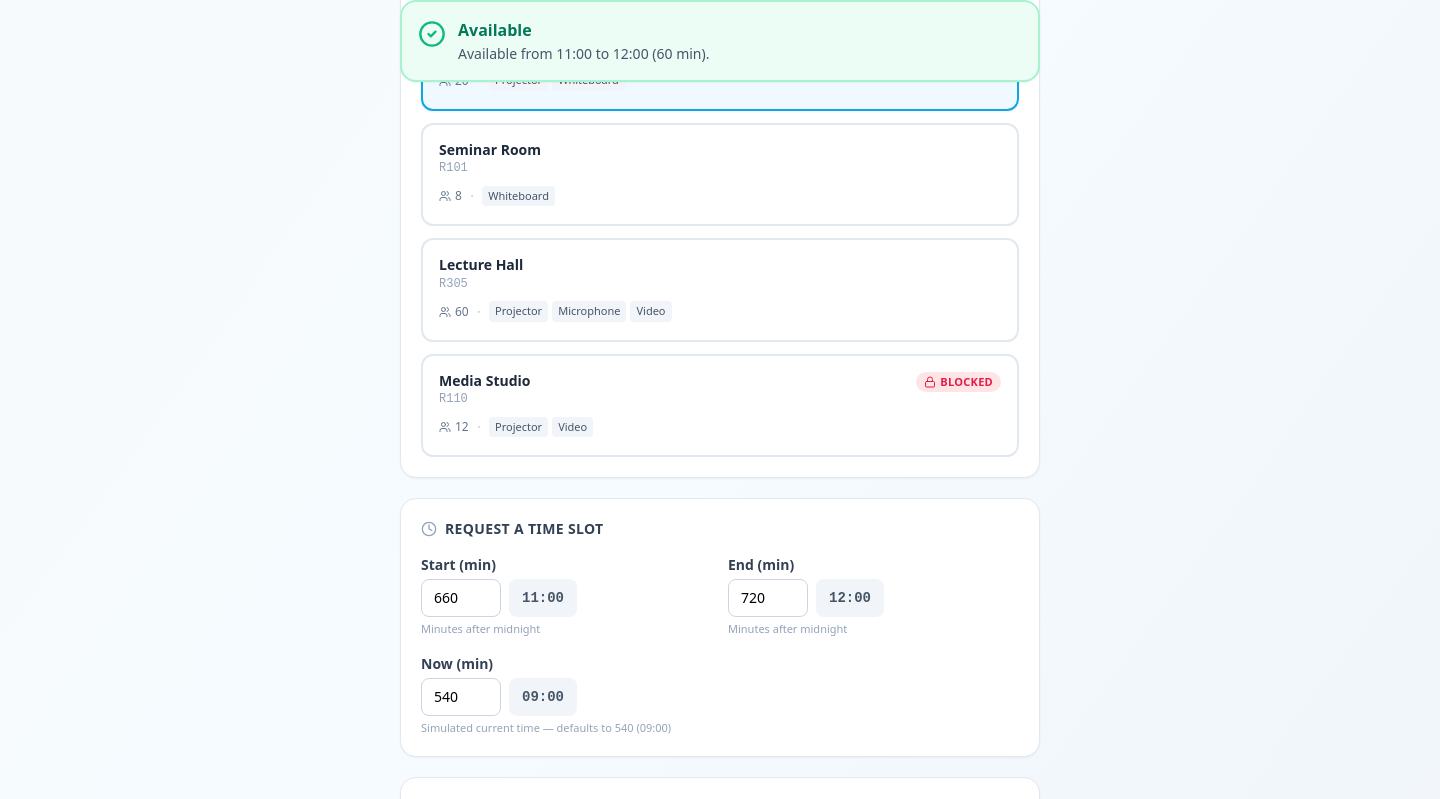
Test case: App UI › UI3 F3: R110 shows blocked and is unavailable
(page scrolled)
Note: Select R110 (Media Studio)
Click the button "R110": (485, 380) [421,354,1019,457]
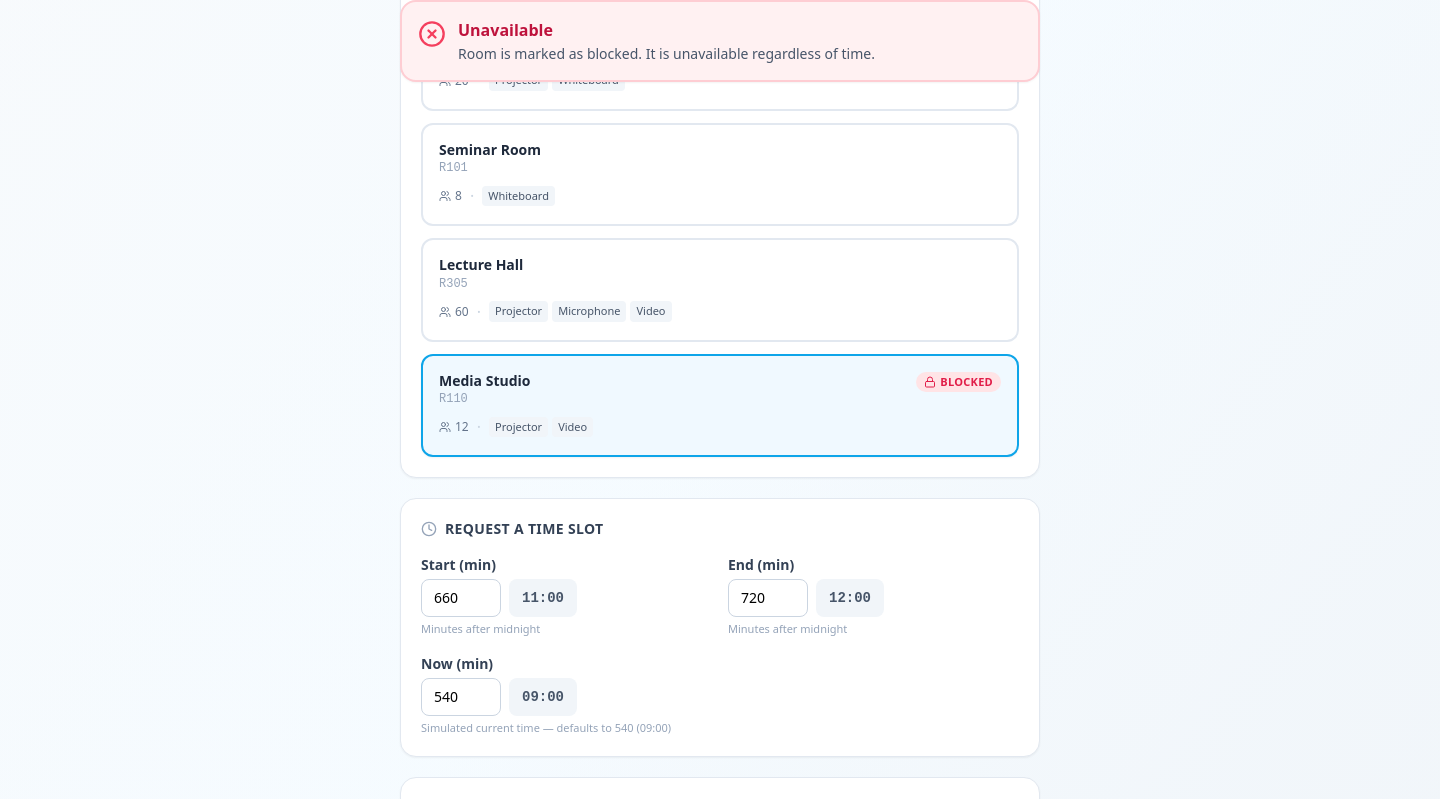
Now the text "Unavailable" is shown, box [458,19,553,41]
Now the text "blocked" is shown, box [458,44,875,63]
